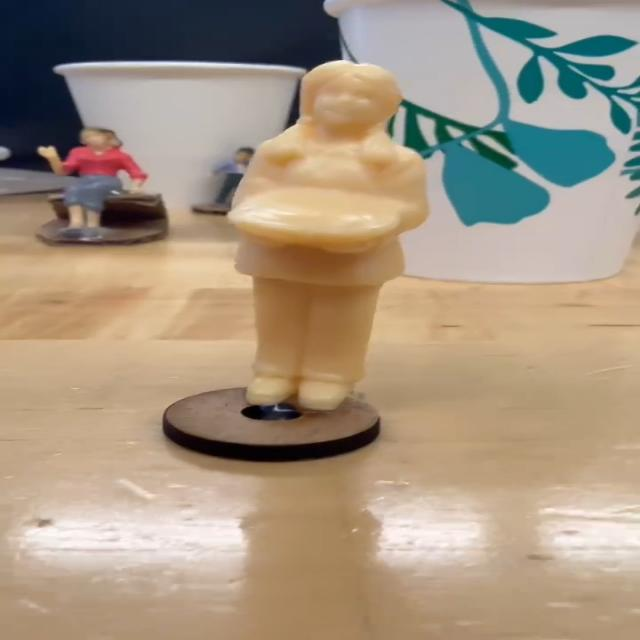Unauthorized: (164, 52, 476, 481)
